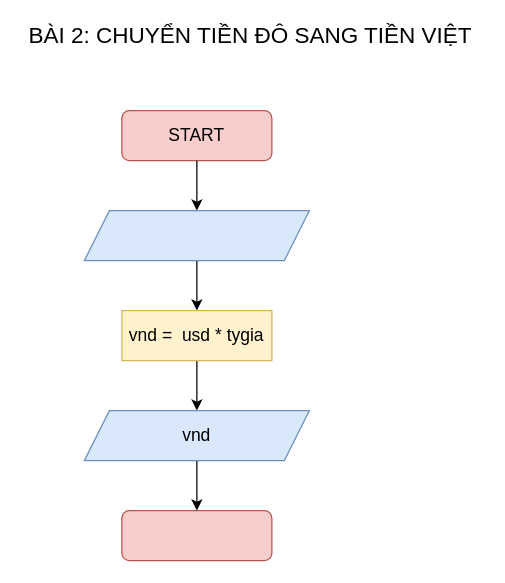
Image size: 505x583. Some labels were removed from this diagram. The box of each missing label's shape, as (x1, y1, x2, y2) in pixels:
NHẬP VÀO usd, tygia: (83, 209, 309, 261)
STOP: (121, 509, 272, 561)
